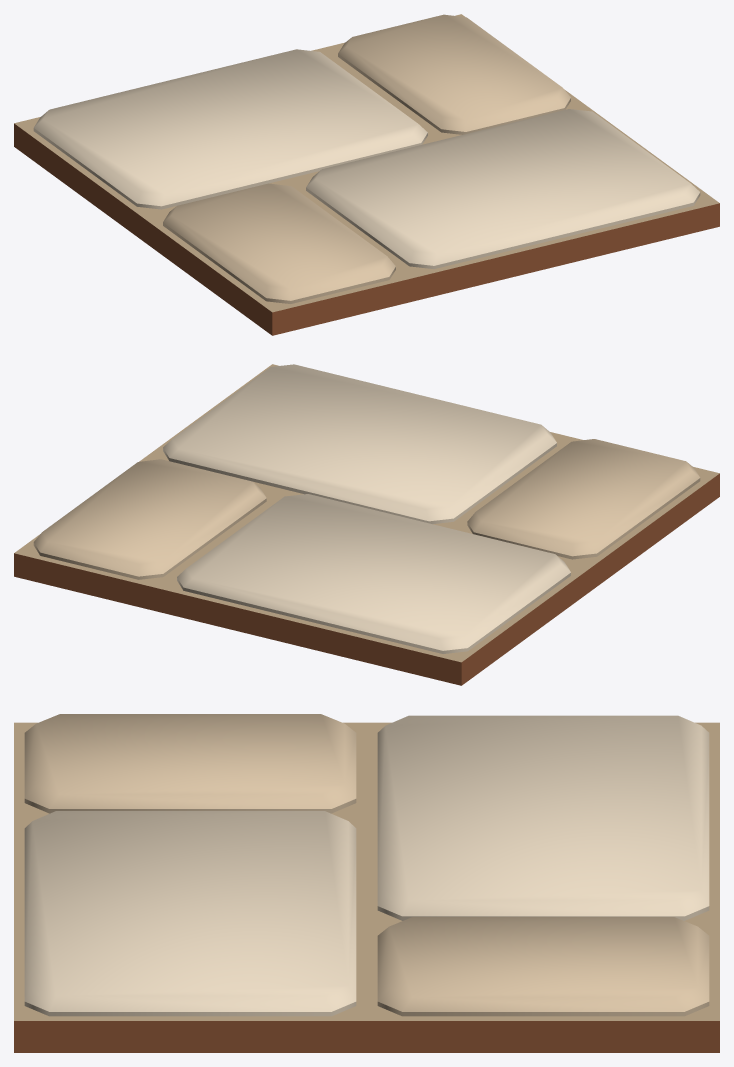
The model's file is plaza_tile.glb.
3 views of the same model, one above another, from view 1: azimuth 30°, elevation 25°; view 2: azimuth 150°, elevation 25°; view 3: azimuth 270°, elevation 25° (orthographic). The views are drawn at different scales.
Visible parts, largest first — view 1: plaza_tile; view 2: plaza_tile; view 3: plaza_tile.
Boxes of the visible parts, left/top/right/bottom form: plaza_tile: left=14, top=14, right=719, bottom=335; plaza_tile: left=14, top=364, right=719, bottom=685; plaza_tile: left=14, top=714, right=719, bottom=1052.
Bounding box in the file's own units: 1 × 0.075 × 1.
Materials: 1 (1 with a texture image).
